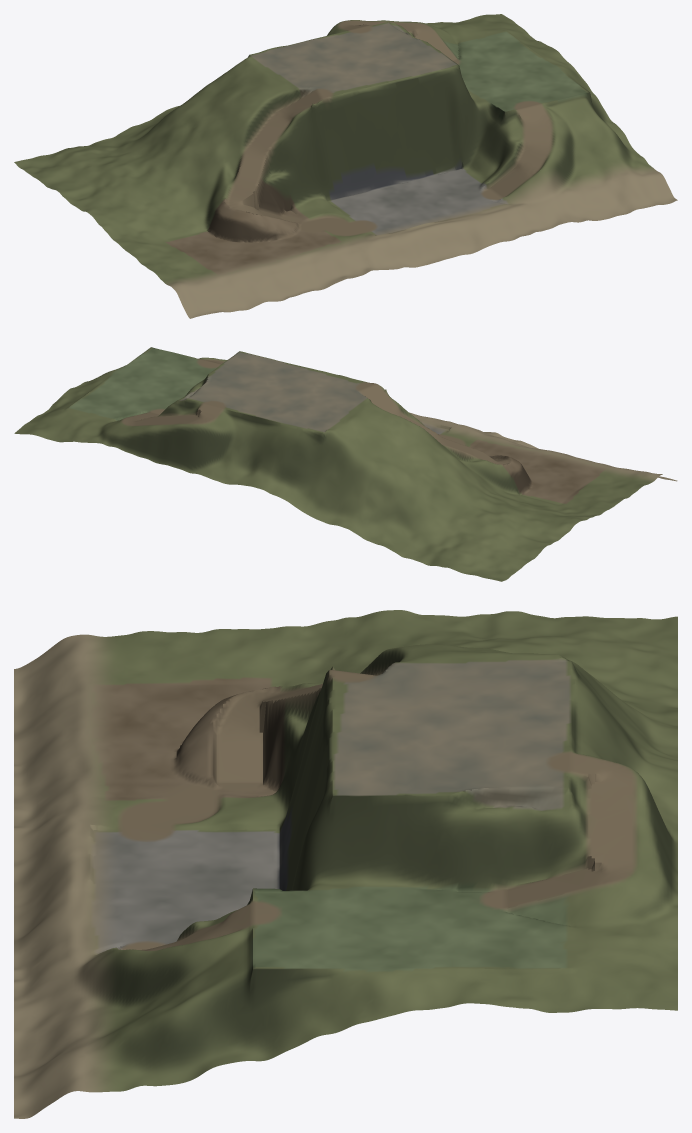
The model's file is terrain-lite.glb.
3 renders of one model, top to bottom at view 1: azimuth 30°, elevation 25°; view 2: azimuth 150°, elevation 25°; view 3: azimuth 270°, elevation 25°, orthographic. The views are drawn at different scales.
Parts seen in each view (by area): view 1: 지형; view 2: 지형; view 3: 지형.
Part boxes in pixels (x1=…): 지형: x1=14, y1=14, x2=677, y2=318; 지형: x1=14, y1=347, x2=677, y2=581; 지형: x1=14, y1=610, x2=677, y2=1118.
Bounding box in the file's own units: 80 × 17.48 × 50.
